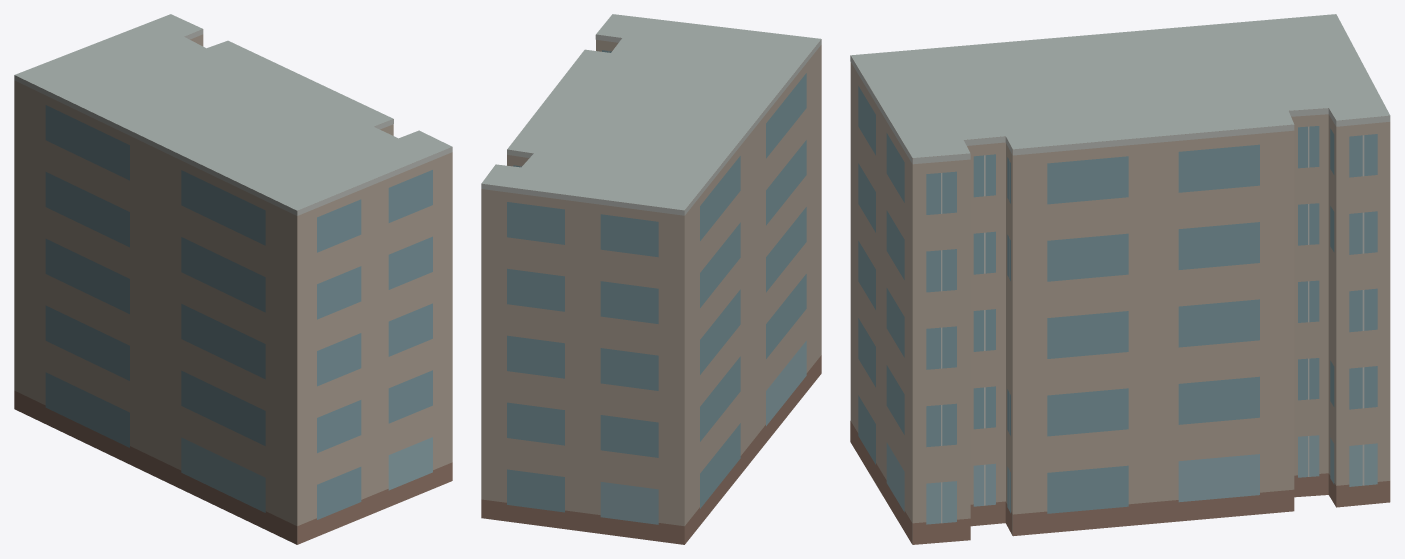
Rendered from survey-upis-32707534.glb.
The picture shows the model from 3 angles, left to right: view 1: azimuth 30°, elevation 25°; view 2: azimuth 150°, elevation 25°; view 3: azimuth 270°, elevation 25°; orthographic projection. The views are drawn at different scales.
Visible parts, largest first — view 1: survey-upis-32707534.tmp; view 2: survey-upis-32707534.tmp; view 3: survey-upis-32707534.tmp.
Boxes of the visible parts, x1,y1,x2,y2 form: survey-upis-32707534.tmp: (14,14,452,544); survey-upis-32707534.tmp: (481,14,821,544); survey-upis-32707534.tmp: (850,14,1390,544).
Bounding box in the file's own units: 12.24 × 15.3 × 19.37.
